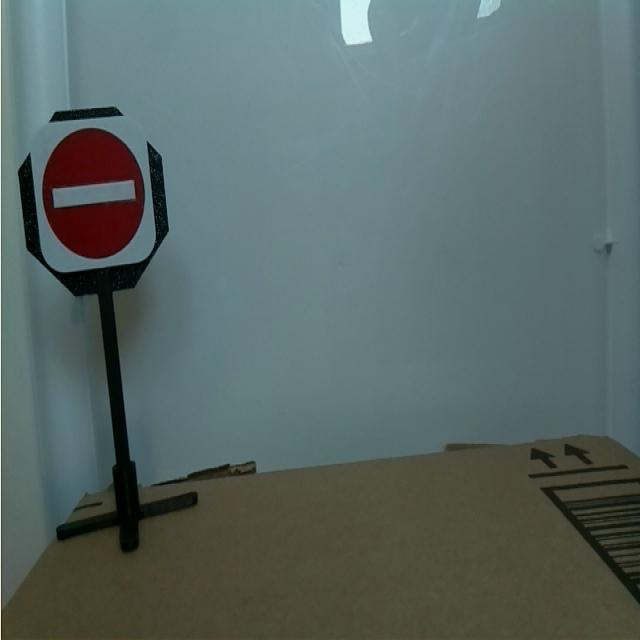sign_noentry: (24, 122, 158, 267)
